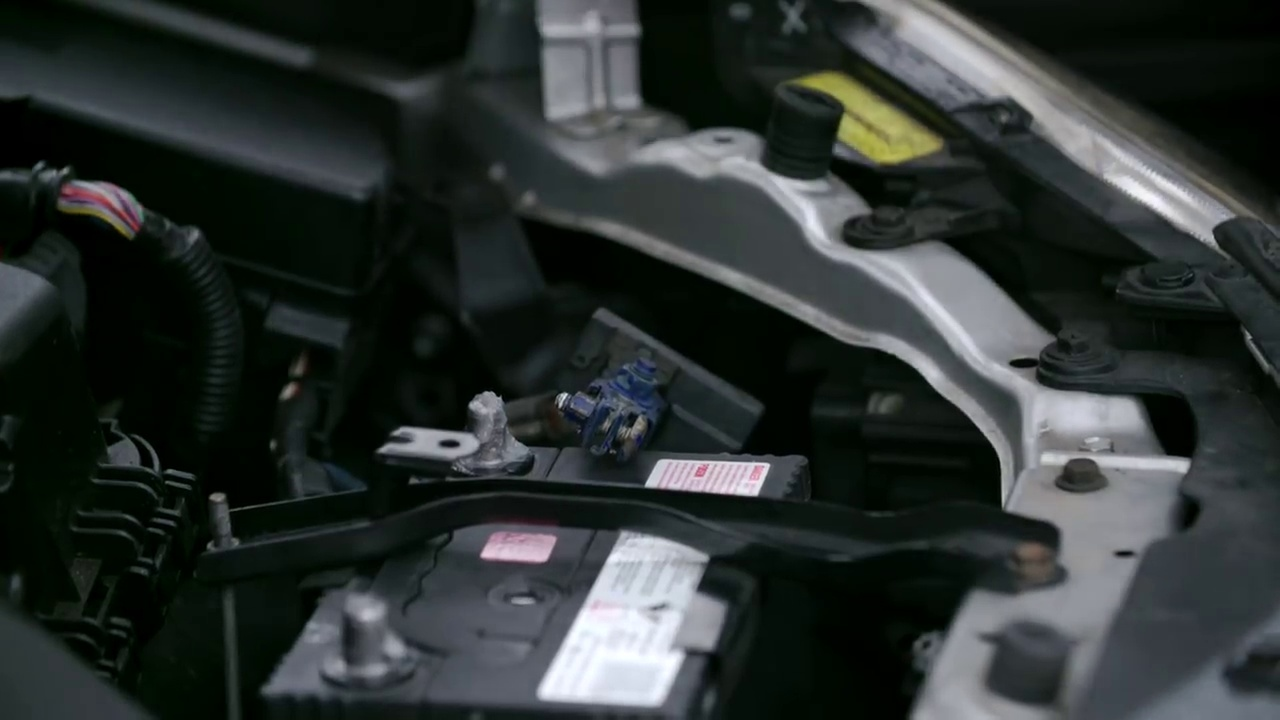battery: (260, 427, 818, 720)
